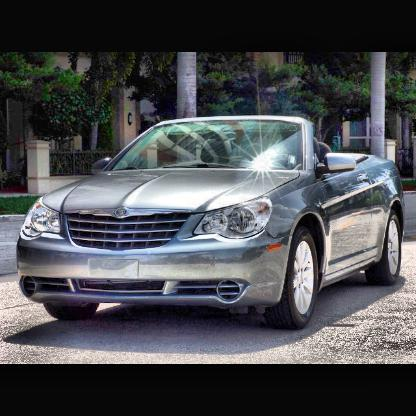Chrysler Sebring Convertible 2010: (17, 116, 405, 332)
